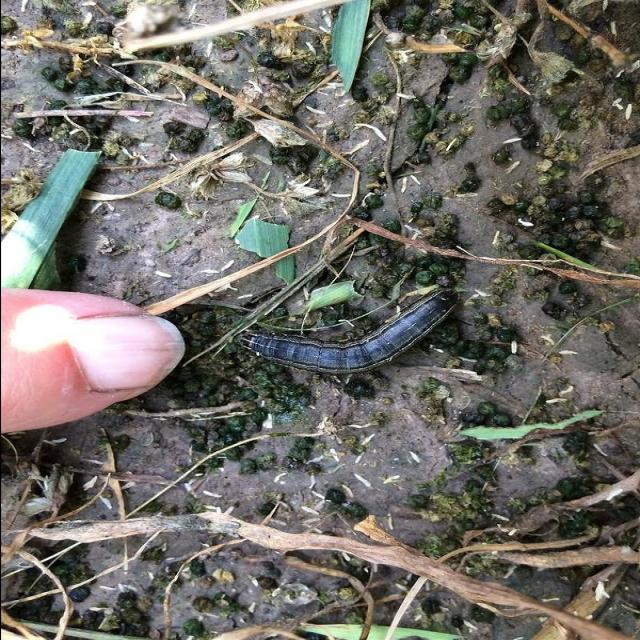army worm: (233, 286, 471, 386)
